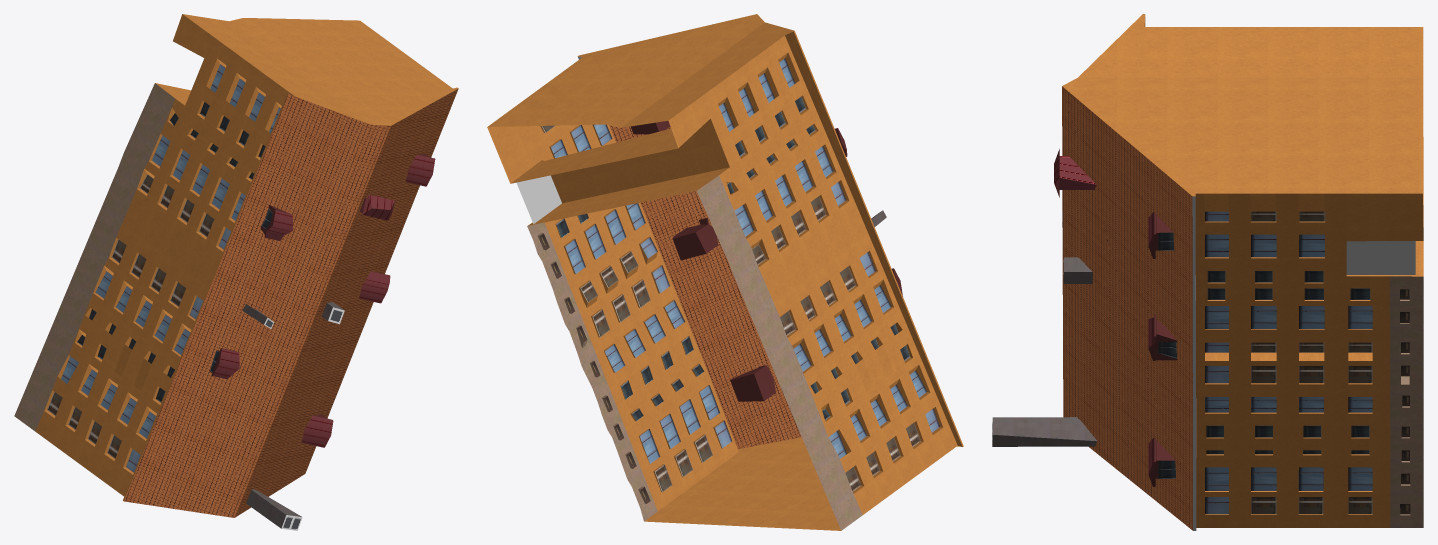
File: Vene_11-origo.obj
3 renders of one model, left to right at view 1: azimuth 30°, elevation 25°; view 2: azimuth 150°, elevation 25°; view 3: azimuth 270°, elevation 25°, orthographic. The views are drawn at different scales.
Parts seen in each view (by area): view 1: Vene_11; view 2: Vene_11; view 3: Vene_11.
Part boxes in pixels (bbox=[...]): Vene_11: bbox=[14, 14, 458, 530]; Vene_11: bbox=[487, 14, 963, 530]; Vene_11: bbox=[992, 14, 1423, 530].
Size of the model in its own units: 29.94 by 32.5 by 25.7.
